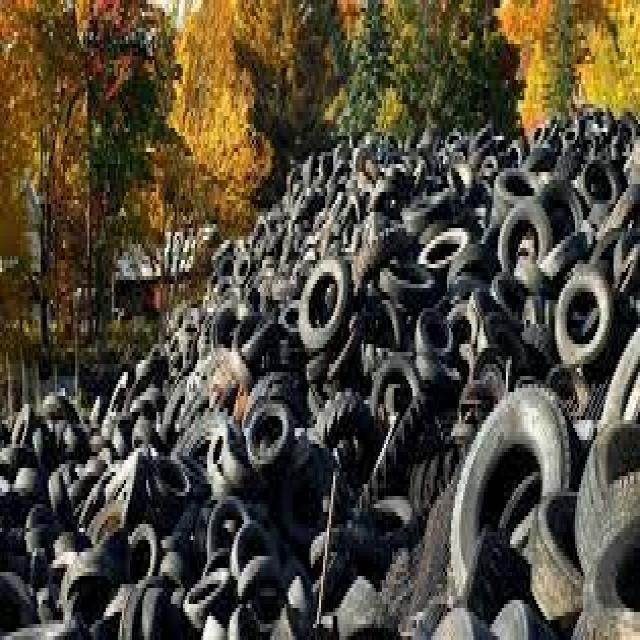Rubber -Non-Biodegradable but Recyclable-: (0, 108, 640, 640)
